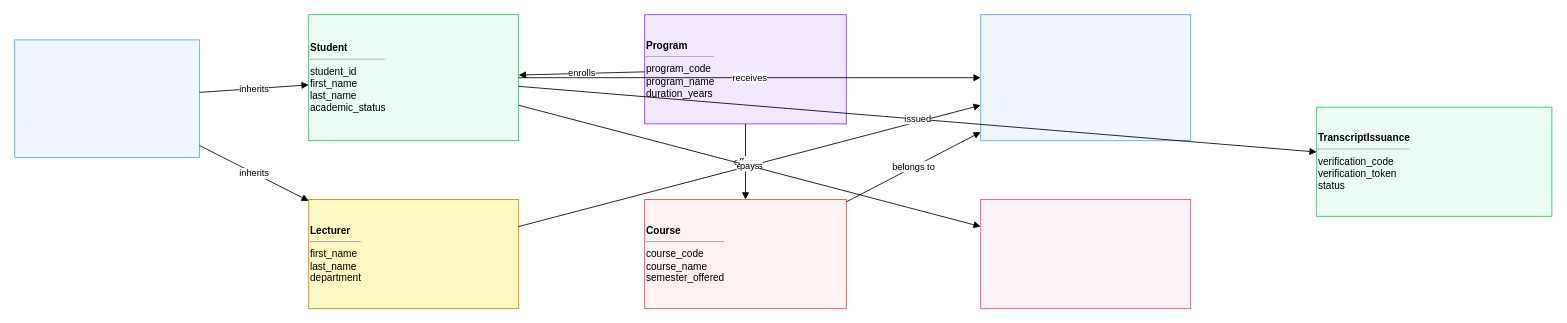
This 1567x323 diagram has some shape labels left out. Each missing label, with the centre of its shape:
"Payment amount_paid payment_method payment_status" belongs at [1085,254].
"Result total_marks grade grade_points status" belongs at [1085,77].
"User id username email role" belongs at [107,98].
